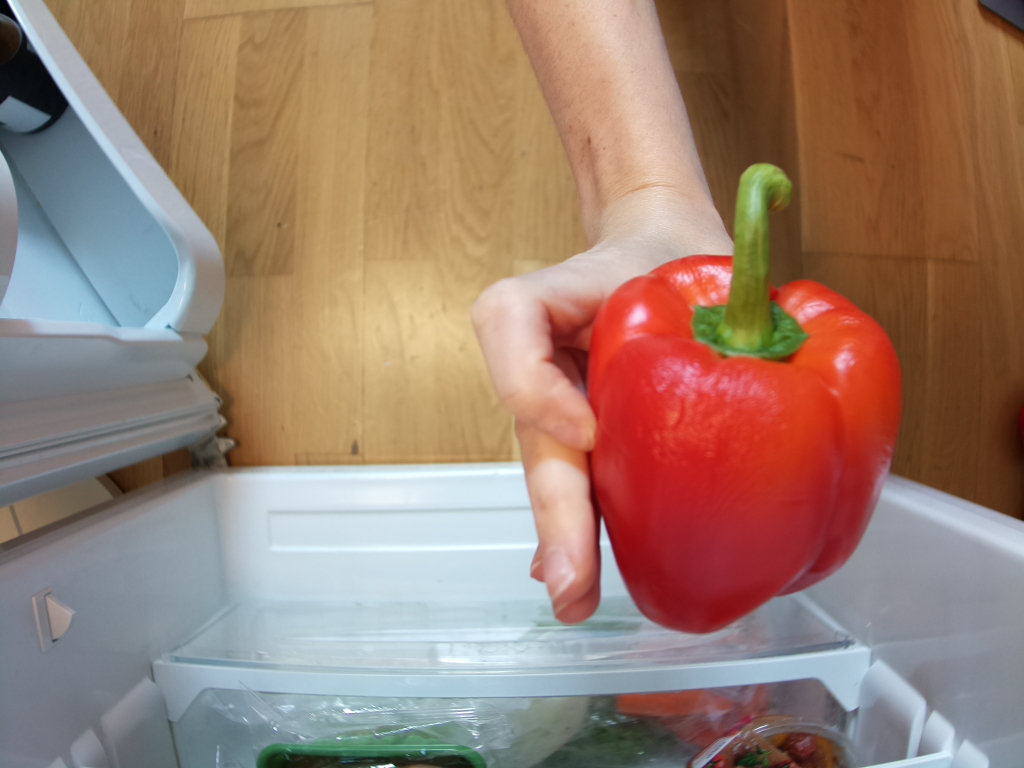pepper-bad: (573, 153, 911, 642)
